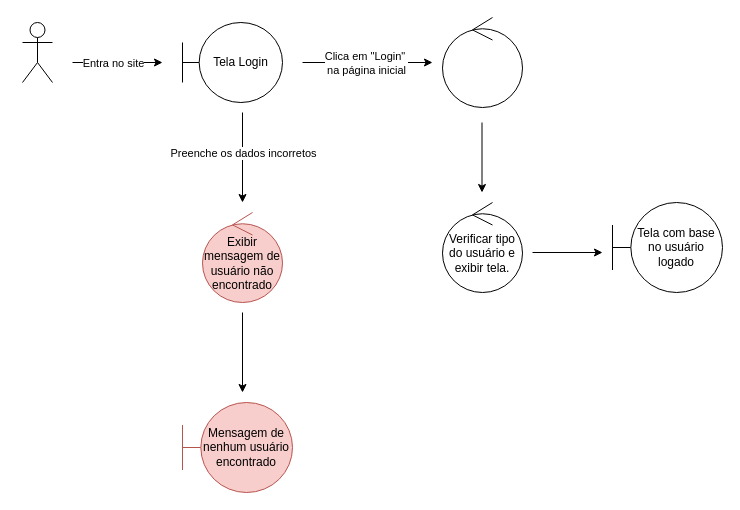
Image size: 740x510. Some labels were removed from this diagram. Each missing label, with the centre of its shape:
Logar: [482,62]
Usuário: [37,52]
